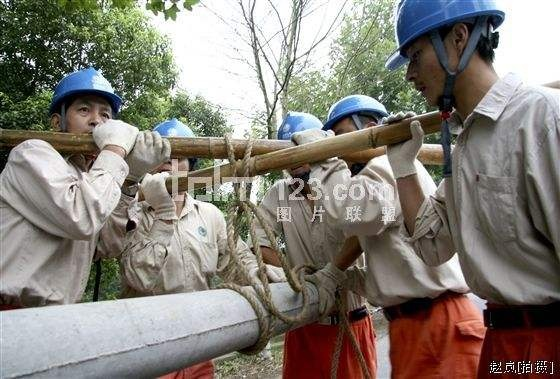blue: (388, 1, 508, 108), (49, 67, 115, 151), (325, 95, 389, 154), (147, 119, 198, 189), (276, 110, 322, 180)
